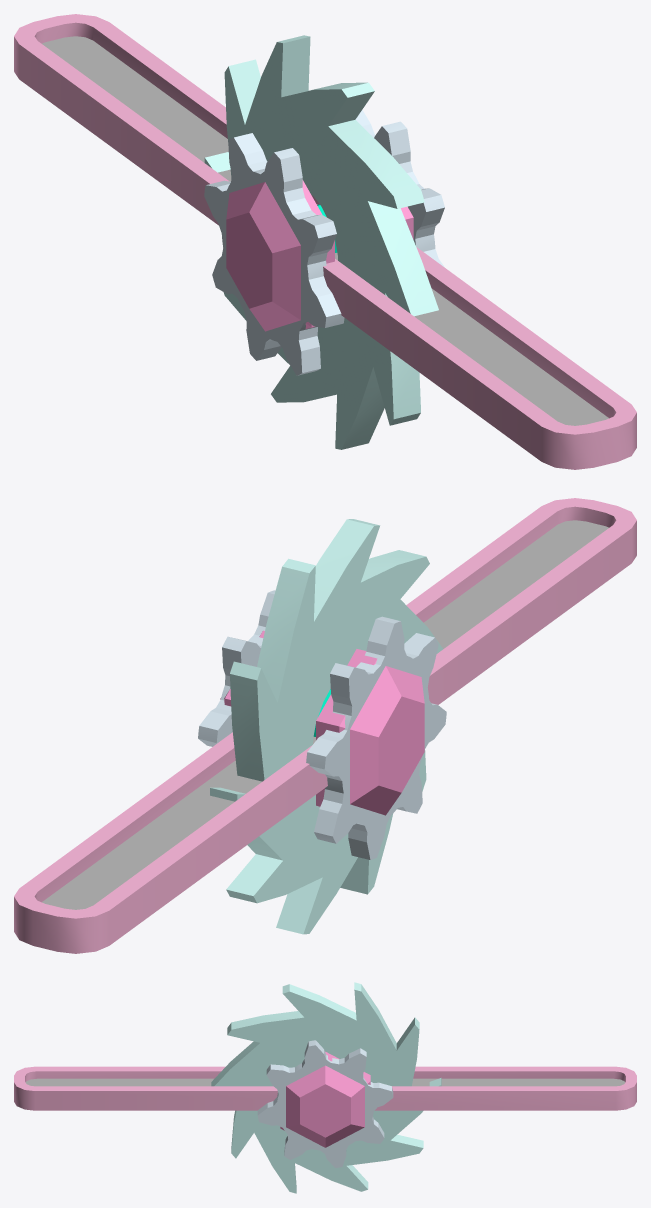
File: Spining_Cutter.fbx
The picture shows the model from 3 angles, top to bottom: view 1: azimuth 30°, elevation 25°; view 2: azimuth 150°, elevation 25°; view 3: azimuth 270°, elevation 25°; orthographic projection. The views are drawn at different scales.
Visible parts, largest first — view 1: ST_Cutter, ST_Blade_Holder; view 2: ST_Cutter, ST_Blade_Holder; view 3: ST_Cutter, ST_Blade_Holder.
Part boxes in pixels (<box>): ST_Cutter: <box>204,35,444,449</box>; ST_Blade_Holder: <box>14,14,636,469</box>; ST_Cutter: <box>198,519,446,934</box>; ST_Blade_Holder: <box>14,498,636,953</box>; ST_Cutter: <box>211,982,441,1193</box>; ST_Blade_Holder: <box>14,1066,636,1110</box>.
Bounding box in the file's own units: 57.86 × 128 × 355.
